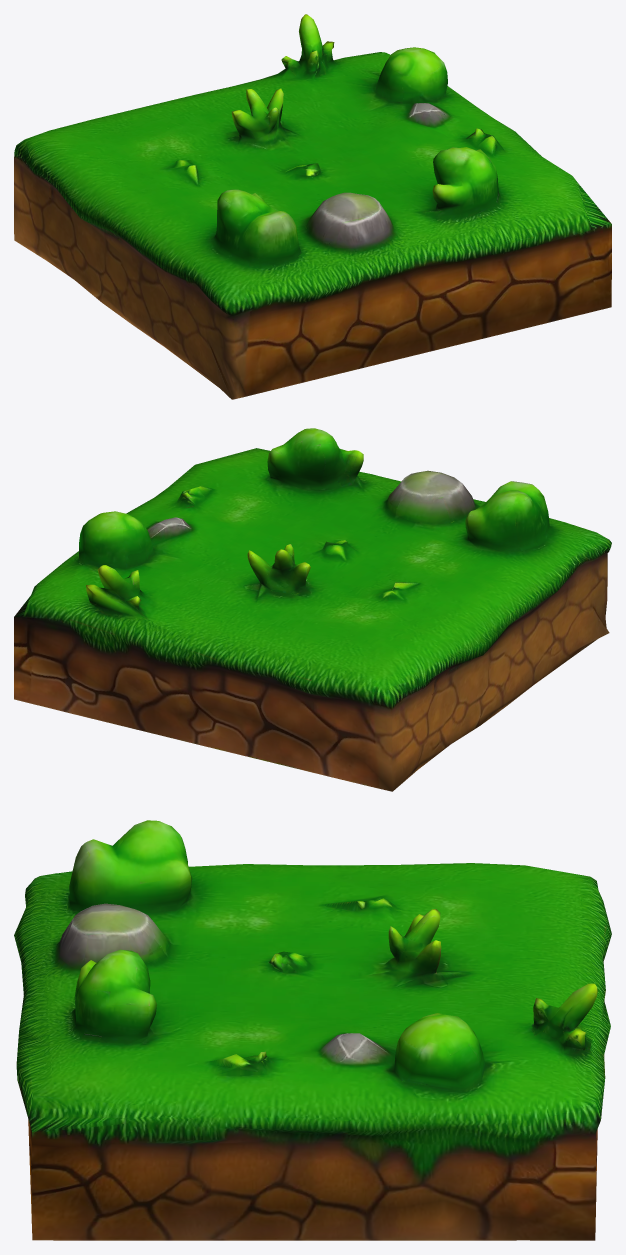
File: gndx_grass.glb
The picture shows the model from 3 angles, top to bottom: view 1: azimuth 30°, elevation 25°; view 2: azimuth 150°, elevation 25°; view 3: azimuth 270°, elevation 25°; orthographic projection. The views are drawn at different scales.
Bounding box in the file's own units: 1.88 × 0.7342 × 1.88.
Materials: 1 (1 with a texture image).
